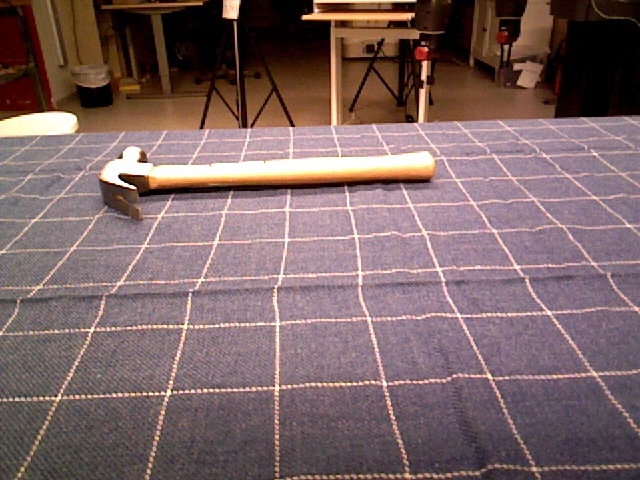hammer1: (98, 146, 436, 223)
